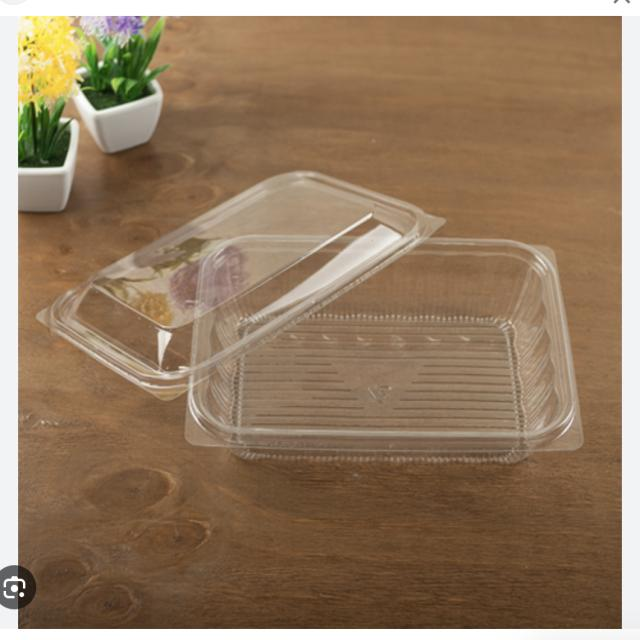recyclable: (30, 157, 612, 472)
